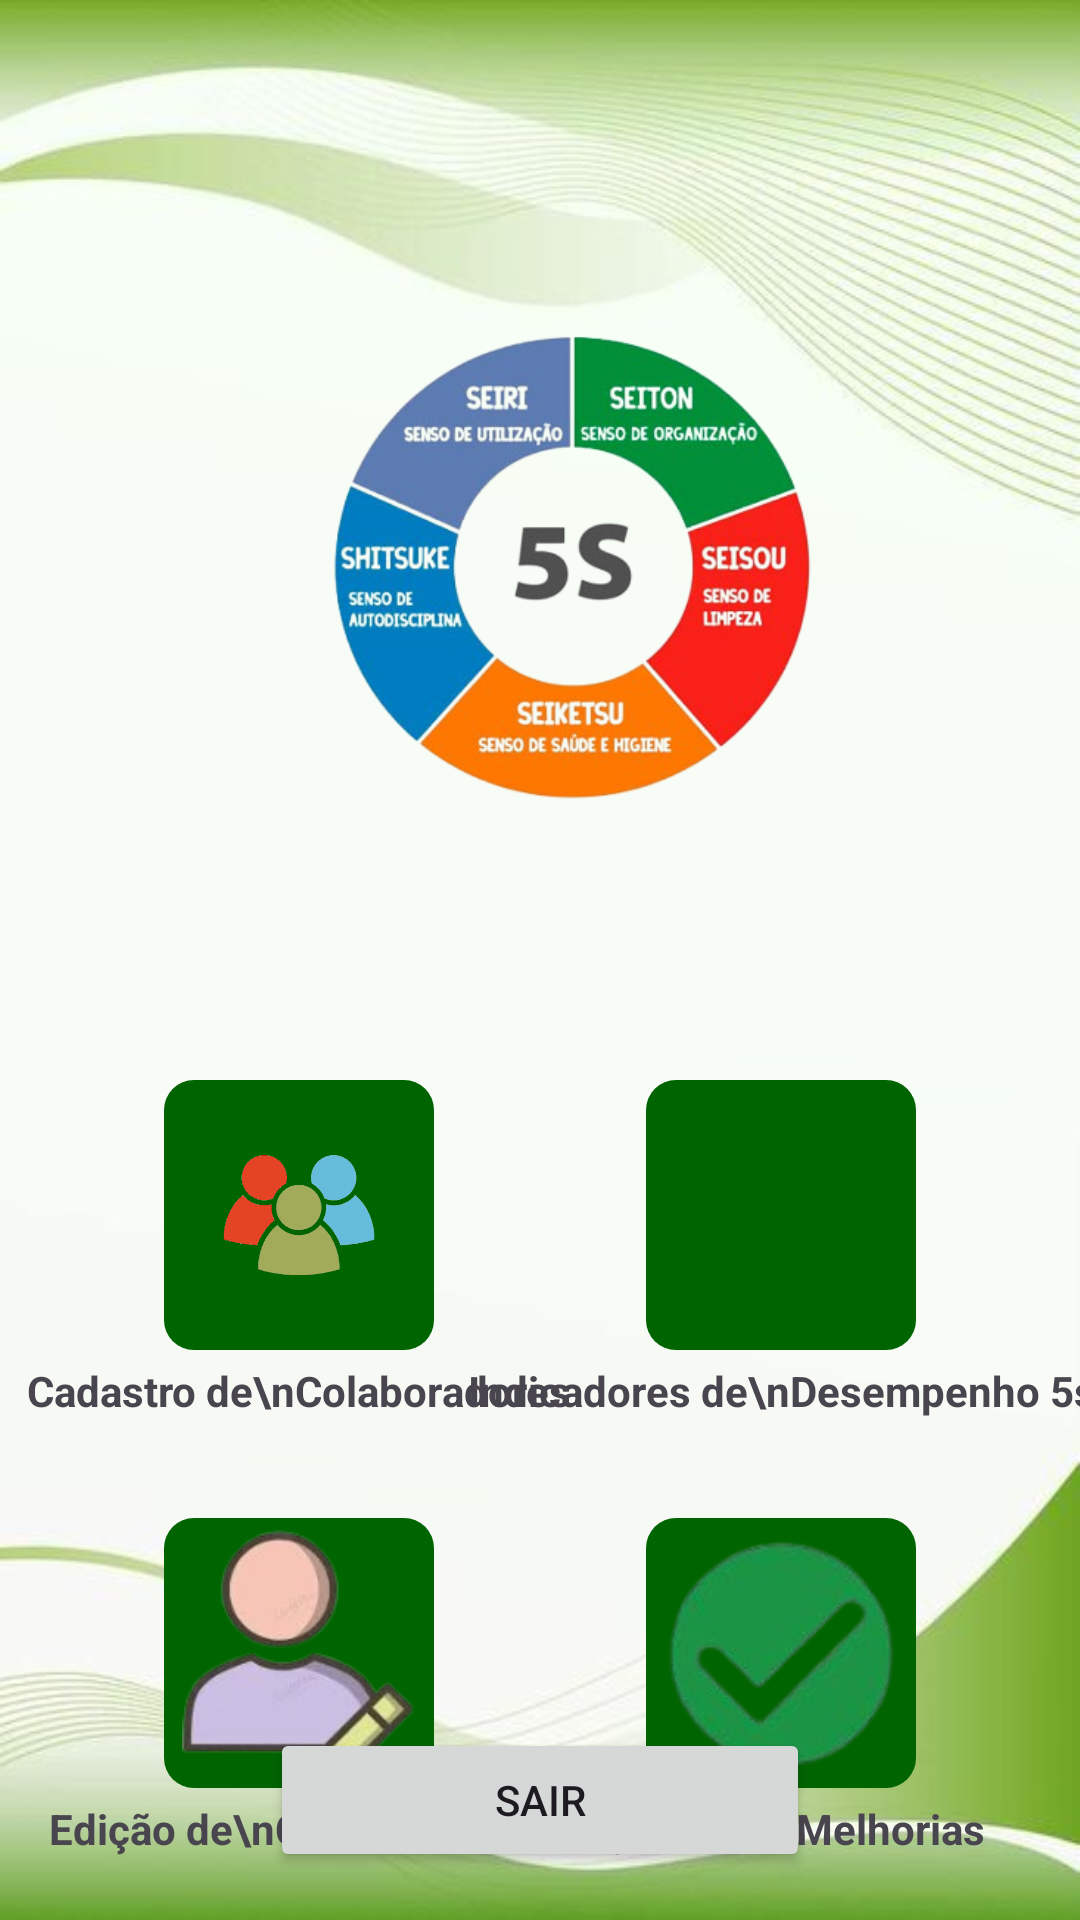

Where to tap for icons on this 1080px x 1920px app screen, as (x=x, y=y):
account: (x=299, y=1215)
check: (x=781, y=1653)
profile edit: (x=299, y=1653)
